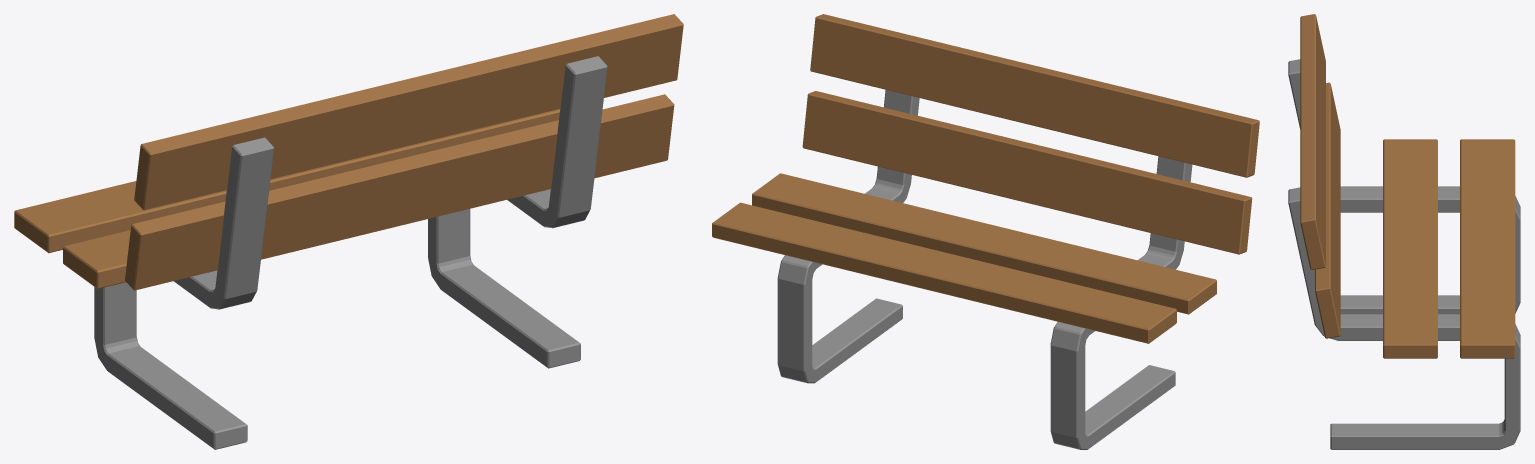
File: Banco_UV.fbx
3 renders of one model, left to right at view 1: azimuth 30°, elevation 25°; view 2: azimuth 150°, elevation 25°; view 3: azimuth 270°, elevation 25°, orthographic. The views are drawn at different scales.
Visible parts, largest first — view 1: Cube.089; view 2: Cube.089; view 3: Cube.089.
Part boxes in pixels (x1,y1,x2,y2): Cube.089: [14, 14, 683, 449]; Cube.089: [712, 14, 1259, 449]; Cube.089: [1288, 14, 1520, 449].
Bounding box in the file's own units: 405 × 242 × 193.
